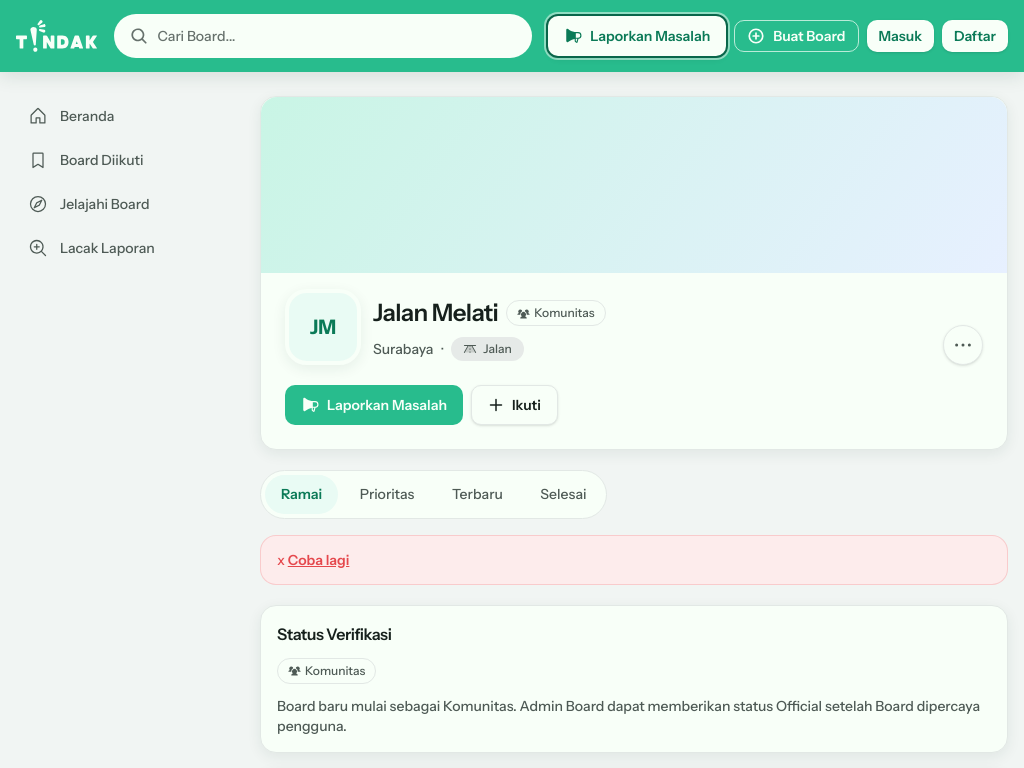
Test: FollowButton › membuka LoginModal untuk tamu
Click the button "Ikuti" at (514, 405), box [471, 385, 558, 425]
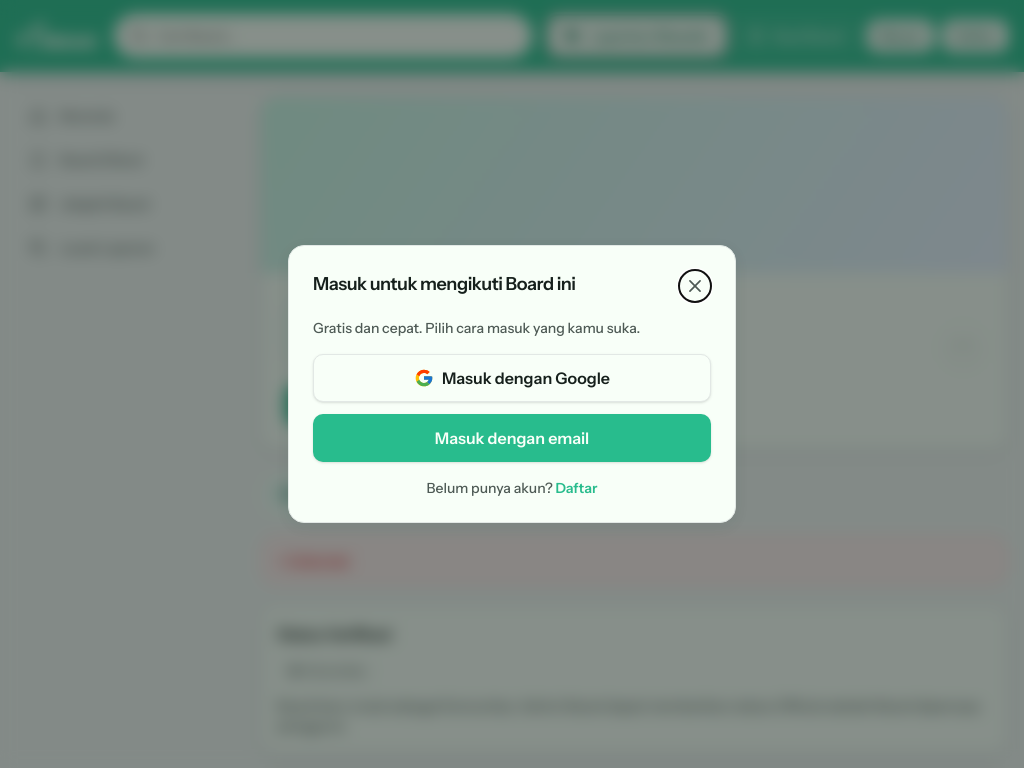
Check: the dialog shows "Masuk untuk mengikuti Board ini", box [313, 273, 576, 295]
